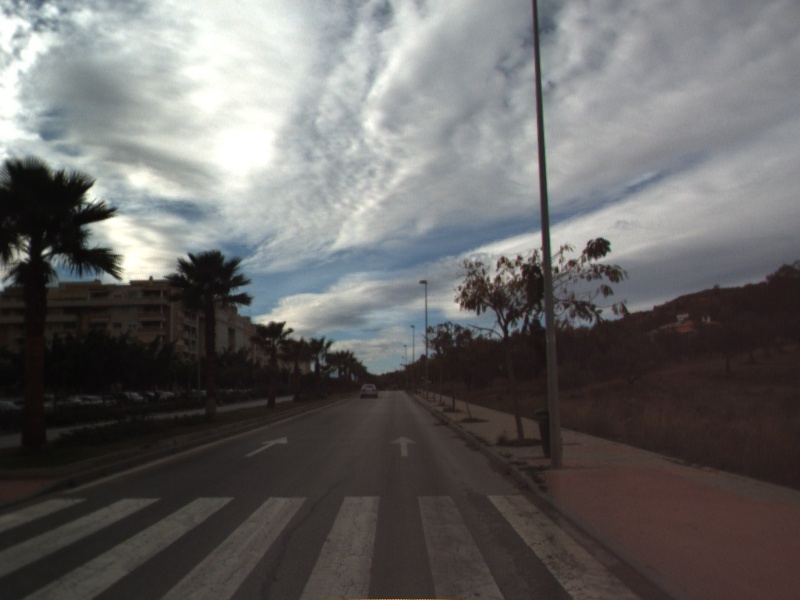STRAIGHT: (242, 434, 289, 459), (389, 434, 419, 459)
